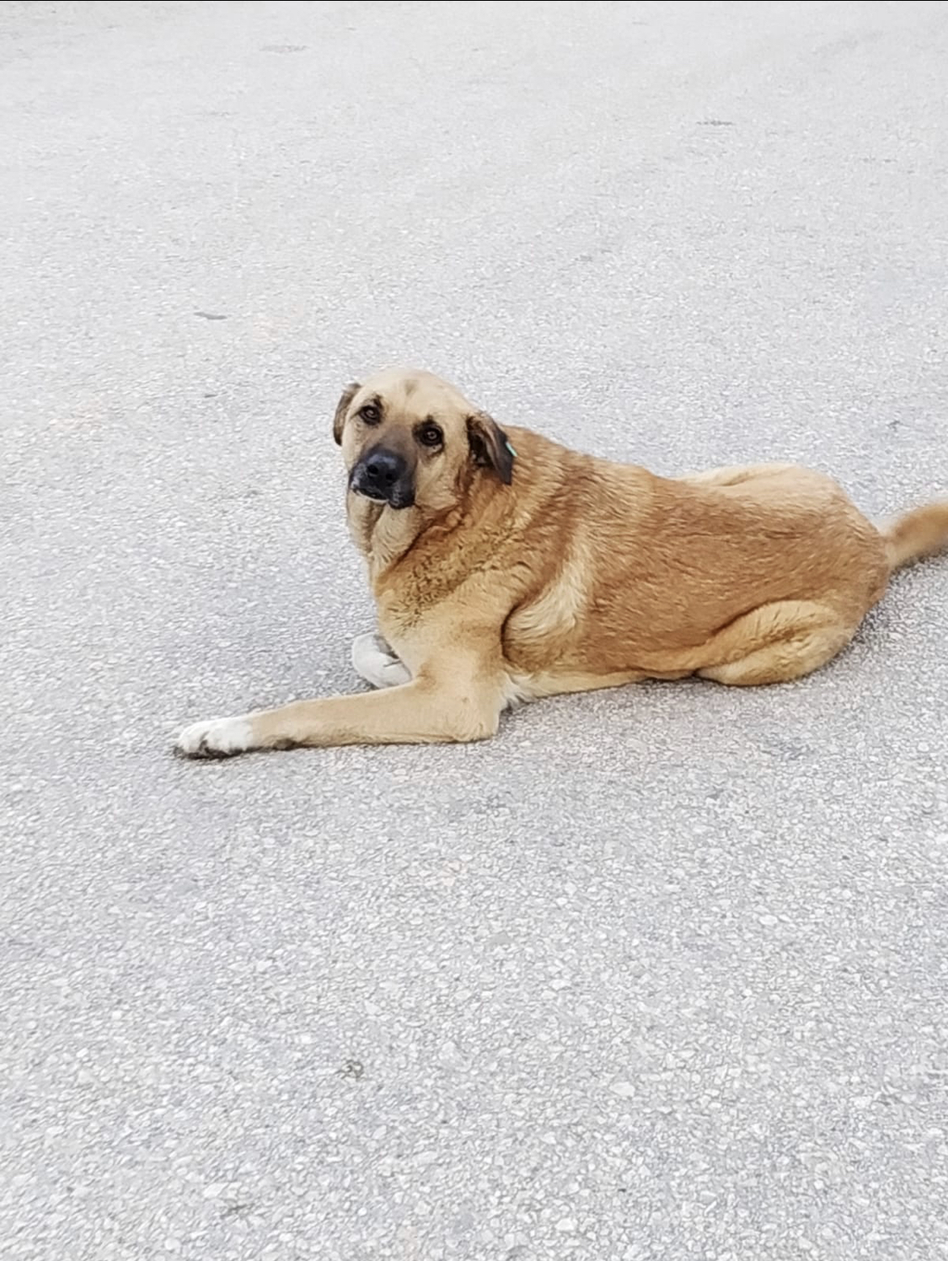dog: (186, 366, 948, 783)
